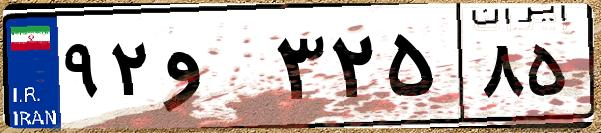2: (330, 28, 385, 110), (110, 28, 158, 98)
3: (270, 28, 330, 110)
5: (385, 28, 445, 110), (525, 38, 570, 115)
8: (475, 38, 525, 113)
9: (57, 26, 110, 100)
و: (158, 20, 270, 120)
